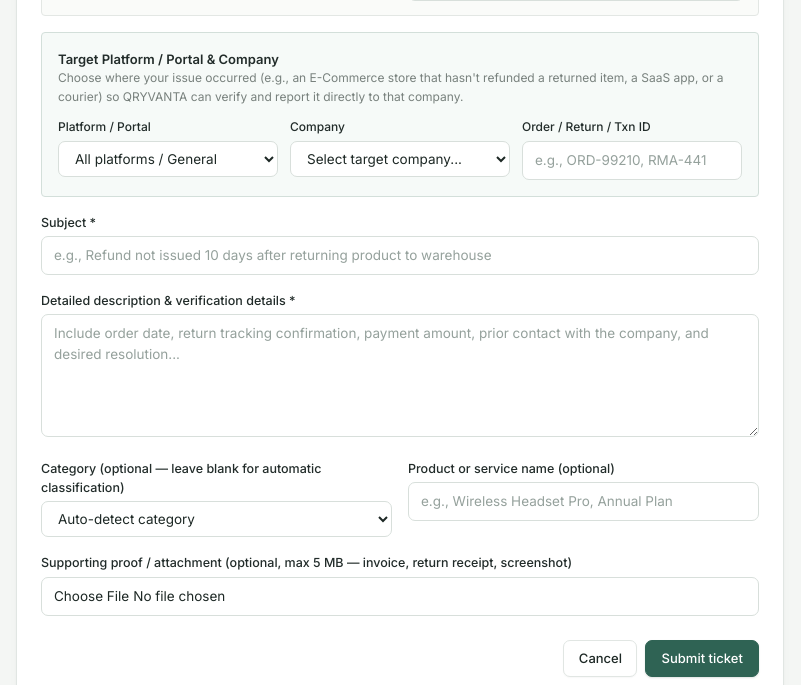
QRYVANTA Frontend Core UI & Workflows › validates submit ticket form fields before submitting to API
(page scrolled)
Click the button "Submit ticket".
click(702, 658)  # box [645,640,759,677]
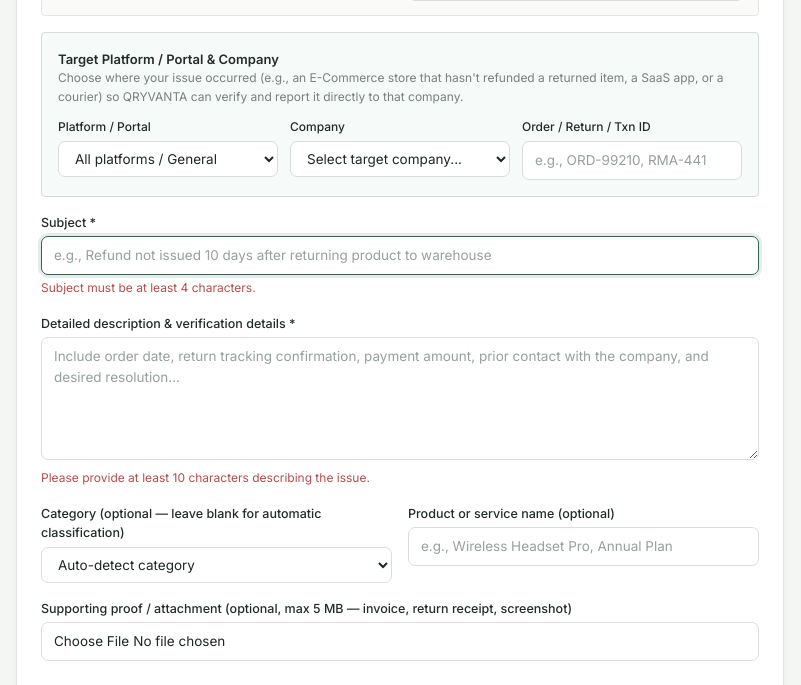
Result: the text "Subject must be at least 4 characters." is shown at [41,280,256,295]
Result: the text "Please provide at least 10 characters describing the issue." is shown at [41,470,370,485]
